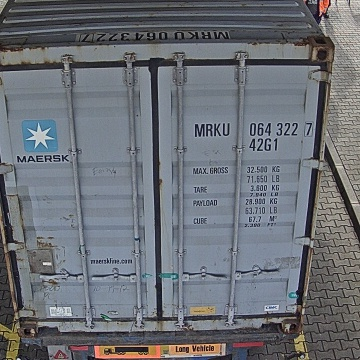serial_id: (194, 122, 312, 137)
